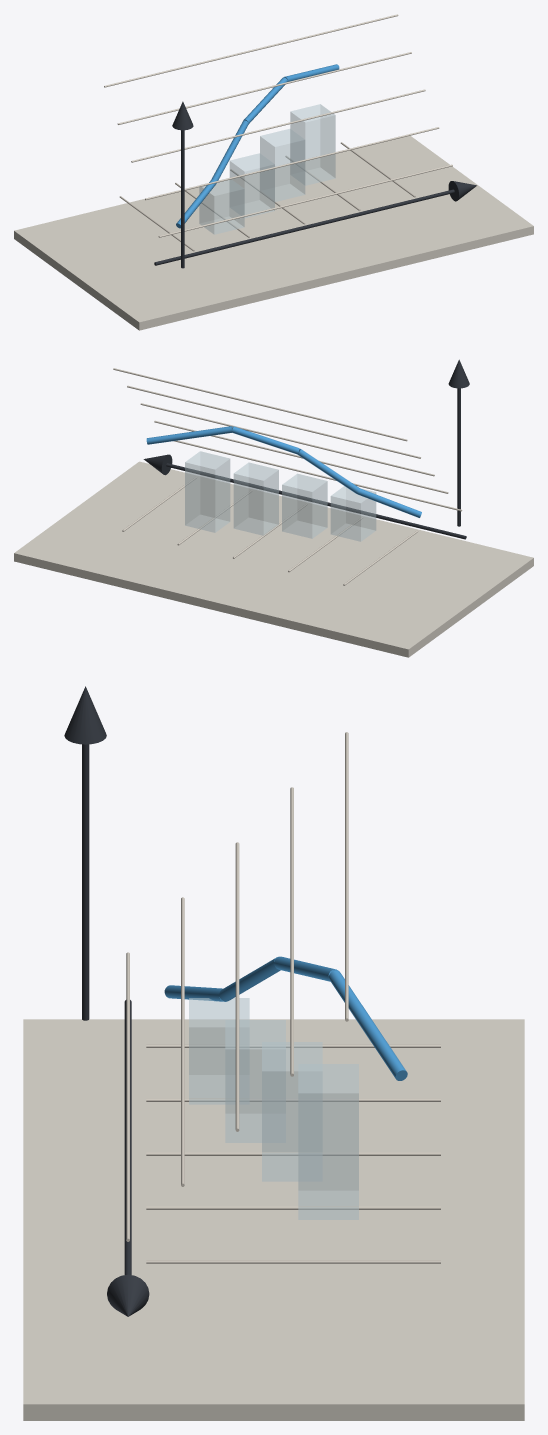
Rendered from math-advanced-math-calc-area-under-curve.glb.
The picture shows the model from 3 angles, top to bottom: view 1: azimuth 30°, elevation 25°; view 2: azimuth 150°, elevation 25°; view 3: azimuth 270°, elevation 25°; orthographic projection. The views are drawn at different scales.
Visible parts, largest first — view 1: advanced-math-base, area-rectangle-4, area-rectangle-3, area-rectangle-2, area-rectangle-1, math-calc-area-under-curve-x-axis-shaft, math-calc-area-under-curve-horizontal-grid-5, math-calc-area-under-curve-horizontal-grid-3, math-calc-area-under-curve-horizontal-grid-1, math-calc-area-under-curve-horizontal-grid-2, math-calc-area-under-curve-horizontal-grid-4, math-calc-area-under-curve-y-axis-shaft (+2 smaller); view 2: advanced-math-base, area-rectangle-4, area-rectangle-3, area-rectangle-2, area-rectangle-1, math-calc-area-under-curve-x-axis-shaft, math-calc-area-under-curve-horizontal-grid-4, math-calc-area-under-curve-horizontal-grid-5, math-calc-area-under-curve-horizontal-grid-3, math-calc-area-under-curve-horizontal-grid-1, math-calc-area-under-curve-horizontal-grid-2, smooth-function-curve-segment-4 (+5 smaller); view 3: advanced-math-base, area-rectangle-4, area-rectangle-3, area-rectangle-2, area-rectangle-1, math-calc-area-under-curve-y-axis-shaft, smooth-function-curve-segment-4, math-calc-area-under-curve-x-axis-shaft, math-calc-area-under-curve-horizontal-grid-3, math-calc-area-under-curve-y-axis-head, math-calc-area-under-curve-x-axis-head, math-calc-area-under-curve-vertical-grid-4 (+9 smaller).
Boxes of the visible parts, x1,y1,x2,y2 form: advanced-math-base: (14,135,533,330); area-rectangle-4: (290,104,335,185); area-rectangle-3: (260,129,305,201); area-rectangle-2: (229,153,274,218); area-rectangle-1: (199,178,244,234); math-calc-area-under-curve-x-axis-shaft: (154,189,454,265); math-calc-area-under-curve-horizontal-grid-5: (104,14,398,87); math-calc-area-under-curve-horizontal-grid-3: (131,89,425,162); math-calc-area-under-curve-horizontal-grid-1: (158,164,452,237); math-calc-area-under-curve-horizontal-grid-2: (145,127,439,200); math-calc-area-under-curve-horizontal-grid-4: (117,52,411,124); math-calc-area-under-curve-y-axis-shaft: (181,130,184,268); advanced-math-base: (14,461,533,657); area-rectangle-4: (185,451,230,532); area-rectangle-3: (233,462,278,535); area-rectangle-2: (282,473,327,538); area-rectangle-1: (330,486,376,541); math-calc-area-under-curve-x-axis-shaft: (166,463,466,539); math-calc-area-under-curve-horizontal-grid-4: (127,385,420,458); math-calc-area-under-curve-horizontal-grid-5: (113,368,407,441); math-calc-area-under-curve-horizontal-grid-3: (140,403,434,476); math-calc-area-under-curve-horizontal-grid-1: (173,440,462,511); math-calc-area-under-curve-horizontal-grid-2: (154,420,448,493); smooth-function-curve-segment-4: (146,426,232,444); advanced-math-base: (23,1019,524,1420); area-rectangle-4: (298,1064,358,1219); area-rectangle-3: (262,1042,322,1181); area-rectangle-2: (225,1020,285,1142); area-rectangle-1: (189,998,249,1104); math-calc-area-under-curve-y-axis-shaft: (82,744,89,1020); smooth-function-curve-segment-4: (328,970,407,1080); math-calc-area-under-curve-x-axis-shaft: (124,1000,131,1274); math-calc-area-under-curve-horizontal-grid-3: (235,842,239,1131); math-calc-area-under-curve-y-axis-head: (64,686,106,744); math-calc-area-under-curve-x-axis-head: (107,1274,149,1316); math-calc-area-under-curve-vertical-grid-4: (146,1206,440,1209).
Size of what is drawn, in the model's own units: 3 by 1.48 by 1.65.
